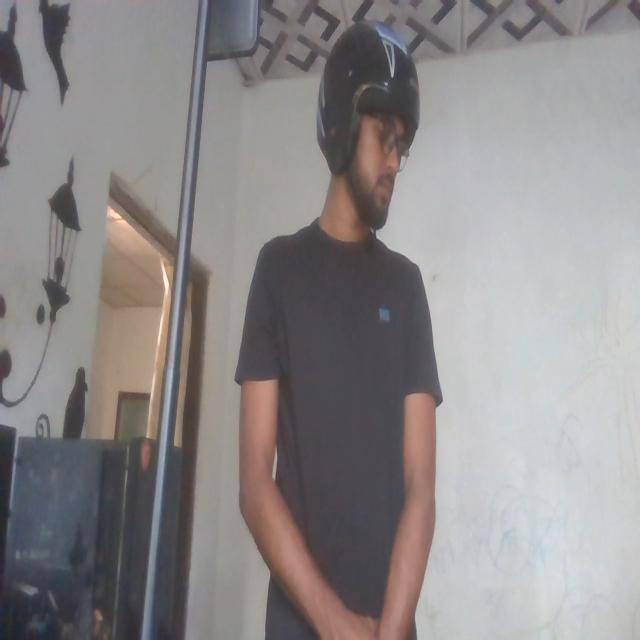Helmet_Wearer: (304, 23, 420, 247)
Person: (230, 21, 443, 640)
